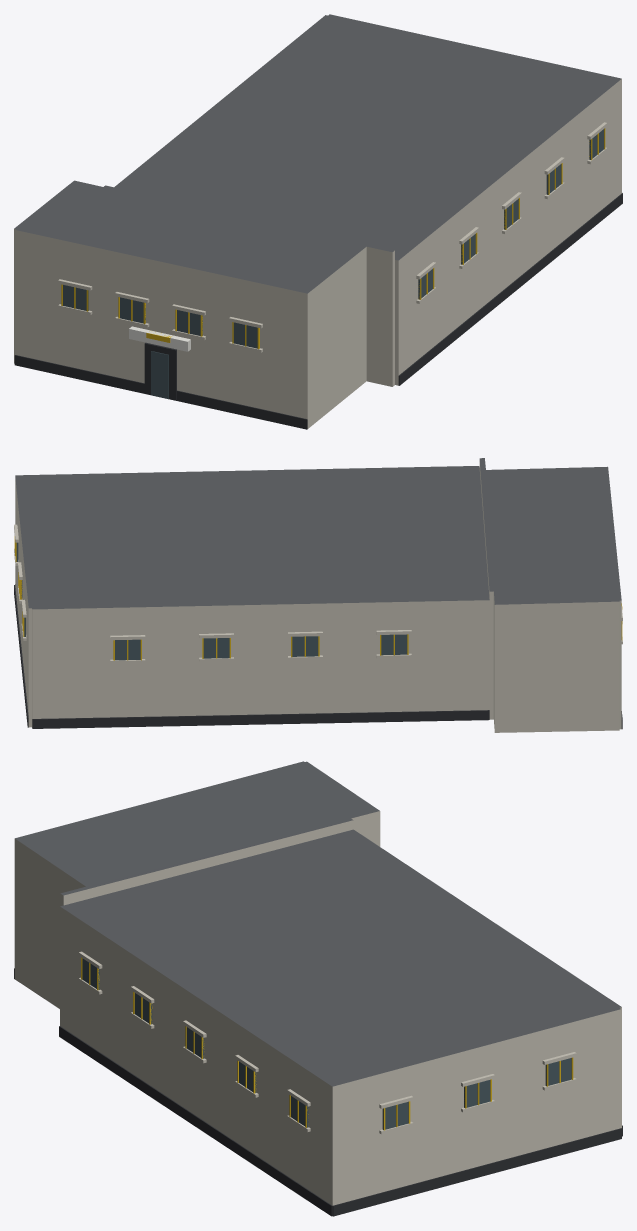
File: toekomstmuziek.glb
The picture shows the model from 3 angles, top to bottom: view 1: azimuth 30°, elevation 25°; view 2: azimuth 150°, elevation 25°; view 3: azimuth 270°, elevation 25°; orthographic projection. The views are drawn at different scales.
Parts seen in each view (by area): view 1: toekomstmuziek; view 2: toekomstmuziek; view 3: toekomstmuziek.
Part boxes in pixels (box(x1,y1,x2,y2)): toekomstmuziek: box(14, 14, 622, 429); toekomstmuziek: box(14, 458, 622, 732); toekomstmuziek: box(14, 761, 622, 1216).
Size of the model in its own units: 32.44 by 6.76 by 26.46.
